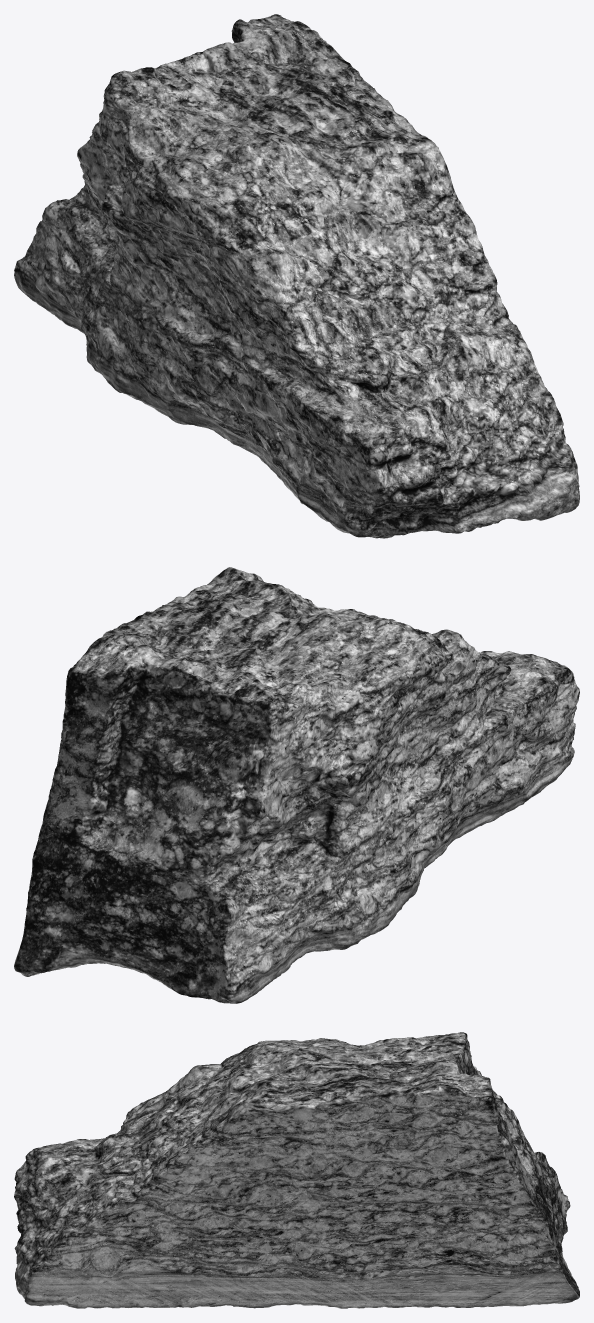
File: Main model black and white.glb
3 renders of one model, top to bottom at view 1: azimuth 30°, elevation 25°; view 2: azimuth 150°, elevation 25°; view 3: azimuth 270°, elevation 25°, orthographic. The views are drawn at different scales.
Visible parts, largest first — view 1: Granite; view 2: Granite; view 3: Granite.
Part boxes in pixels (box(x1,y1,x2,y2)): Granite: box(14, 14, 579, 538); Granite: box(14, 567, 579, 1003); Granite: box(14, 1032, 579, 1308).
Bounding box in the file's own units: 0.0521 × 0.0597 × 0.1363.
1 material, 1 textured.
